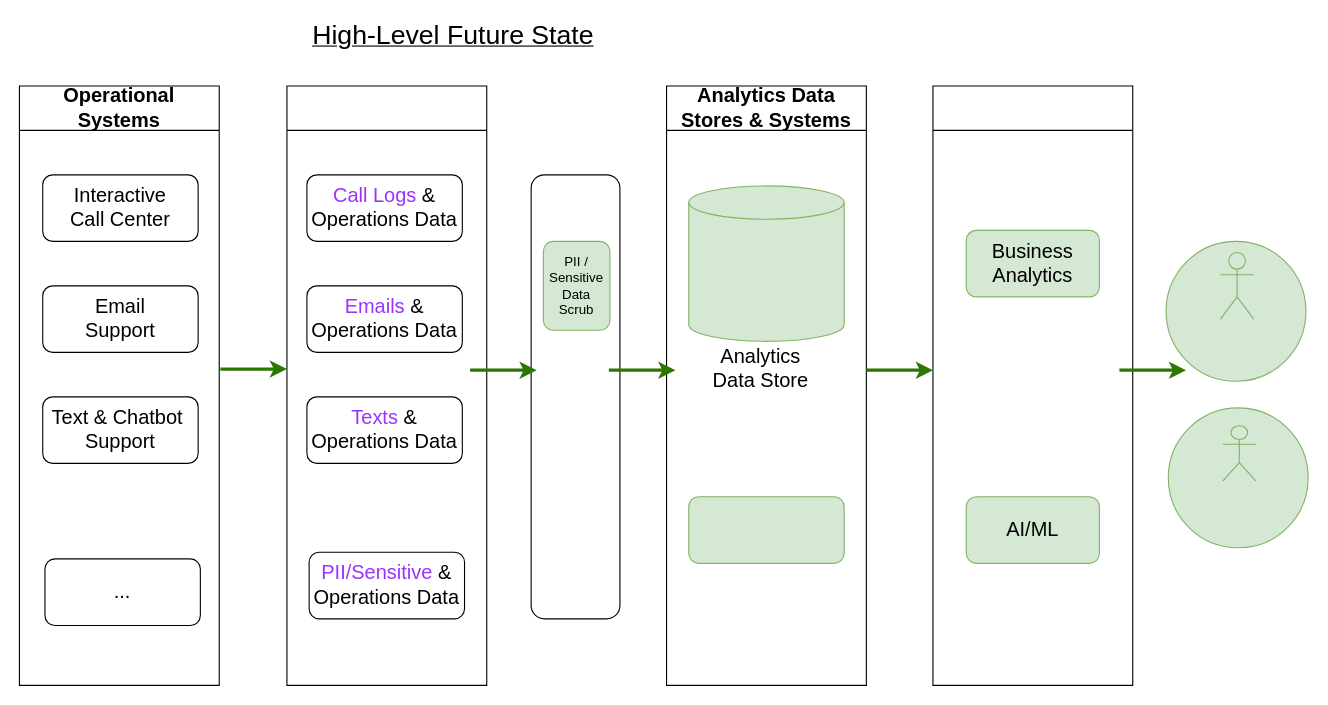
This 1328x705 diagram has some shape labels left out. The box of each missing label's shape, as (x1, y1, x2, y2) in pixels:
3rd Party BA / DS: (1222, 425, 1256, 481)
AI/ML Tools & Infra.: (688, 496, 844, 563)
Analytics Processes: (932, 85, 1133, 685)
Data Sets: (286, 85, 487, 685)
ETL: (530, 174, 620, 619)
In-House BA / DS: (1219, 251, 1254, 319)
Scrubbed & Ops Data: (688, 185, 844, 341)
